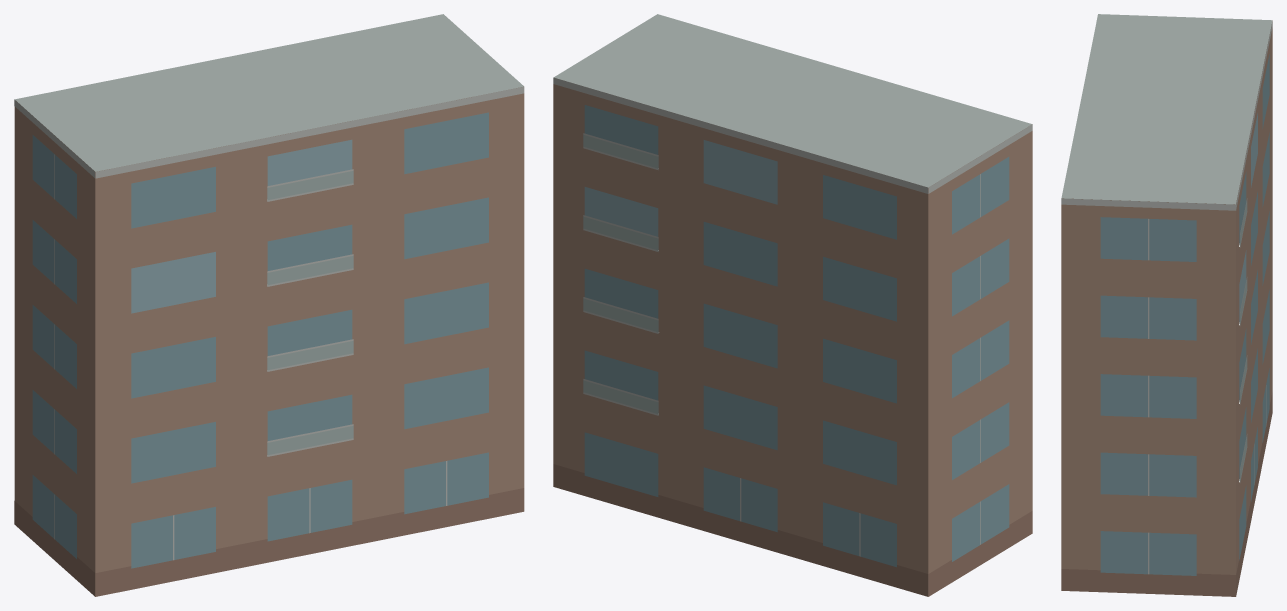
The model's file is survey-upis-32663667.glb.
3 views of the same model, side by side, from view 1: azimuth 30°, elevation 25°; view 2: azimuth 150°, elevation 25°; view 3: azimuth 270°, elevation 25° (orthographic). The views are drawn at different scales.
Visible parts, largest first — view 1: survey-upis-32663667.tmp; view 2: survey-upis-32663667.tmp; view 3: survey-upis-32663667.tmp.
Boxes of the visible parts, x1=… form: survey-upis-32663667.tmp: x1=14, y1=14, x2=524, y2=596; survey-upis-32663667.tmp: x1=553, y1=14, x2=1032, y2=596; survey-upis-32663667.tmp: x1=1061, y1=14, x2=1272, y2=596.
Bounding box in the file's own units: 15.88 × 15.25 × 7.45.
